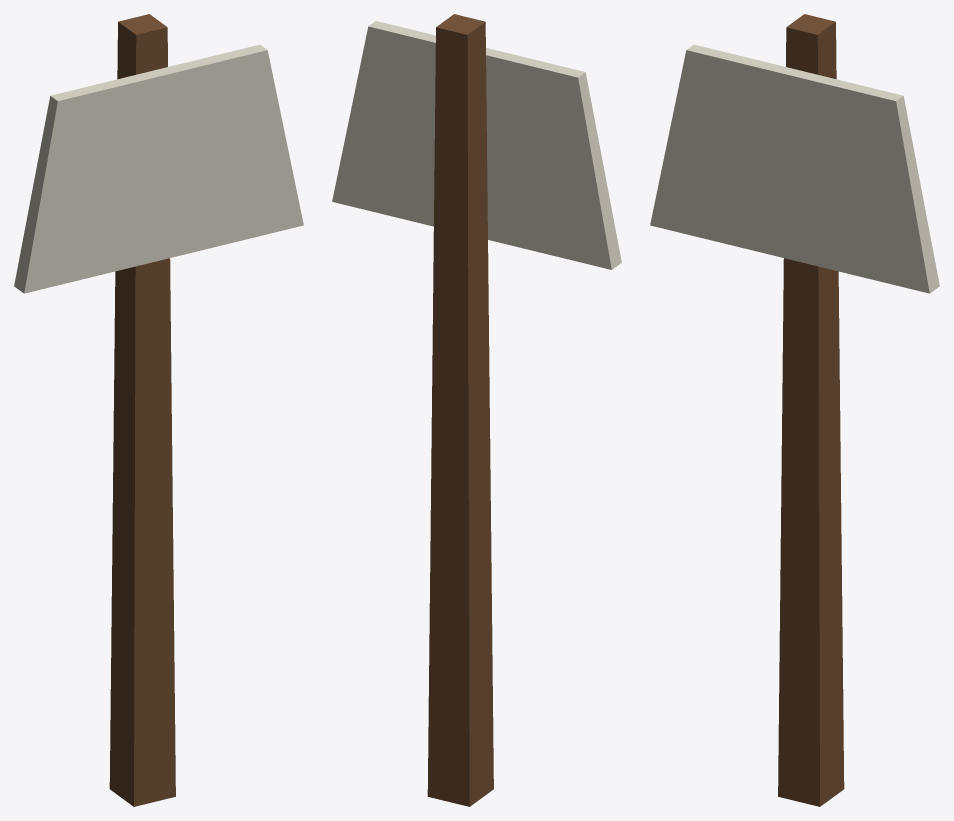
File: sign_post.glb
3 views of the same model, side by side, from view 1: azimuth 30°, elevation 25°; view 2: azimuth 150°, elevation 25°; view 3: azimuth 330°, elevation 25° (orthographic).
Parts seen in each view (by area): view 1: sign_post; view 2: sign_post; view 3: sign_post.
Boxes of the visible parts, x1=… form: sign_post: x1=14, y1=14, x2=303, y2=806; sign_post: x1=332, y1=14, x2=621, y2=806; sign_post: x1=650, y1=14, x2=939, y2=806.
Size of the model in its own units: 0.8 by 2.1 by 0.165.
Materials: 1 (1 with a texture image).
